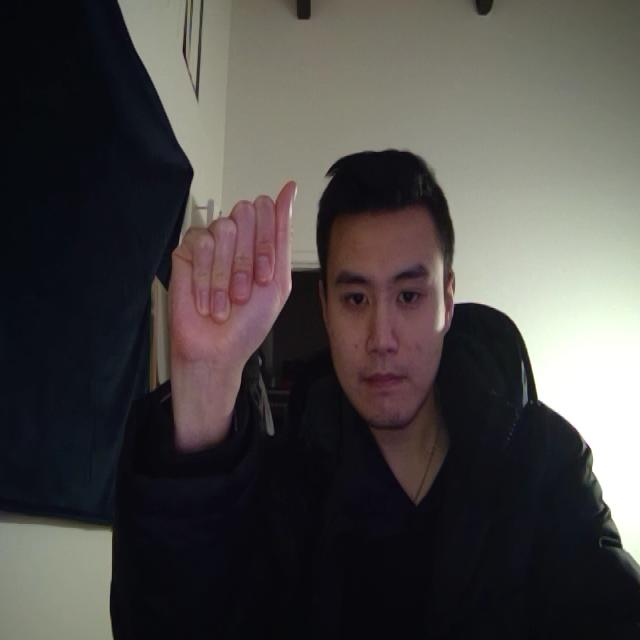A: (148, 155, 318, 403)
